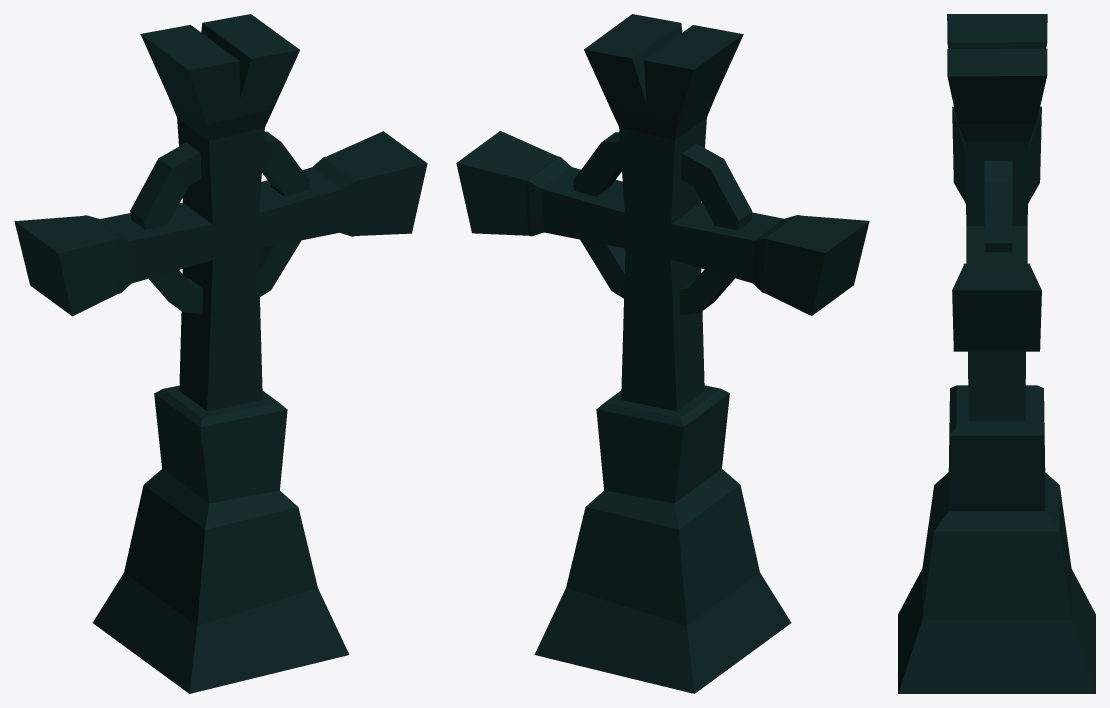
The model's file is cross_019_stone_0_lev1.glb.
3 renders of one model, left to right at view 1: azimuth 30°, elevation 25°; view 2: azimuth 150°, elevation 25°; view 3: azimuth 270°, elevation 25°, orthographic.
Parts seen in each view (by area): view 1: cross_019_stone_0_lev1; view 2: cross_019_stone_0_lev1; view 3: cross_019_stone_0_lev1.
Boxes of the visible parts, x1,y1,x2,y2 form: cross_019_stone_0_lev1: (14, 14, 427, 693); cross_019_stone_0_lev1: (456, 14, 869, 693); cross_019_stone_0_lev1: (898, 14, 1095, 693).
Bounding box in the file's own units: 0.5106 × 0.7937 × 0.2324.
